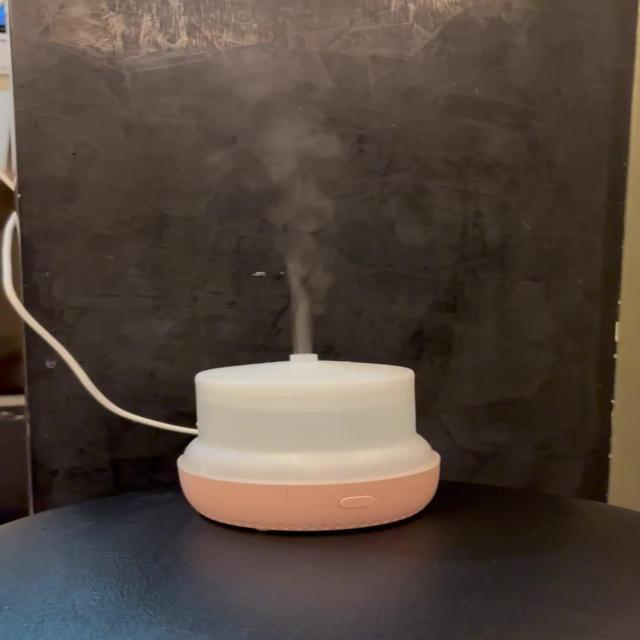fire: (242, 59, 333, 352)
